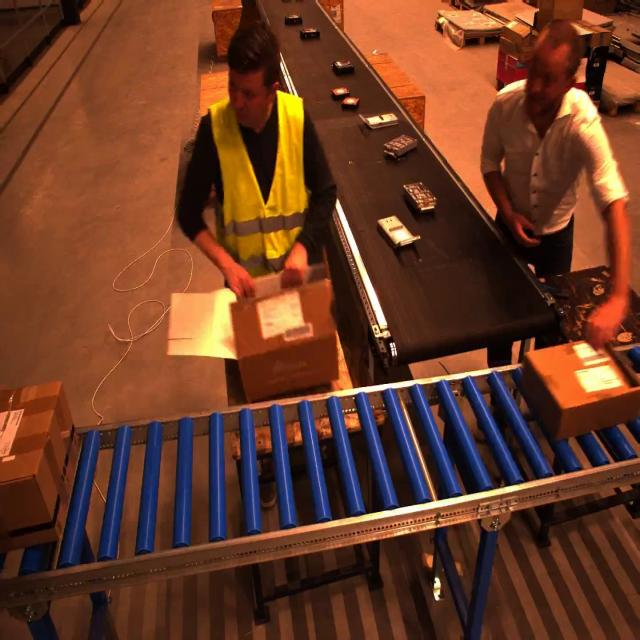box: (182, 265, 349, 393), (499, 320, 640, 438), (0, 377, 90, 535)
product: (372, 209, 416, 281), (403, 178, 446, 241), (379, 134, 425, 173), (377, 214, 419, 248), (402, 182, 437, 213), (357, 110, 400, 132), (332, 59, 354, 75), (299, 27, 320, 39), (341, 96, 360, 109), (284, 13, 302, 25), (334, 85, 350, 98)
